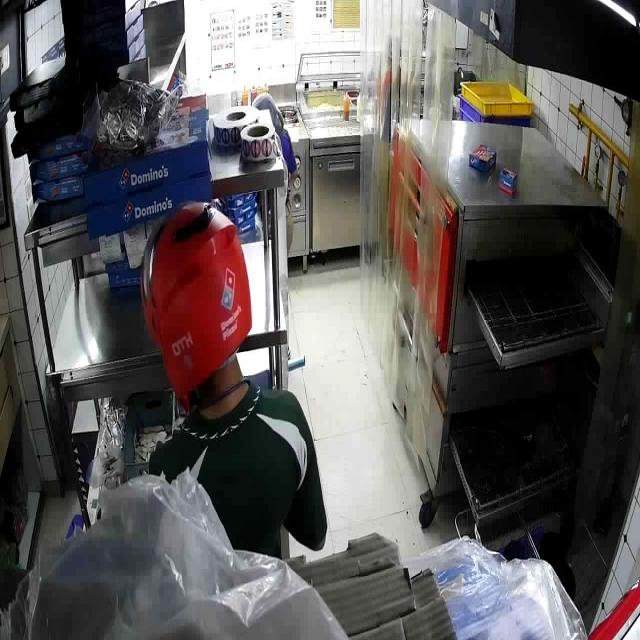helmet: (139, 200, 252, 423)
